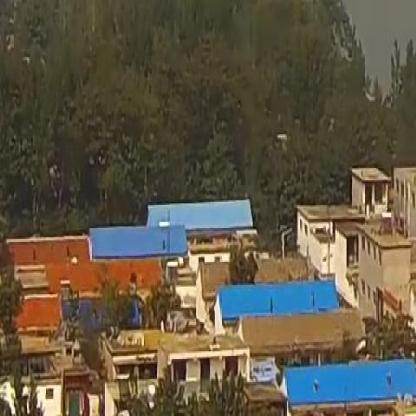other: (1, 230, 163, 310)
